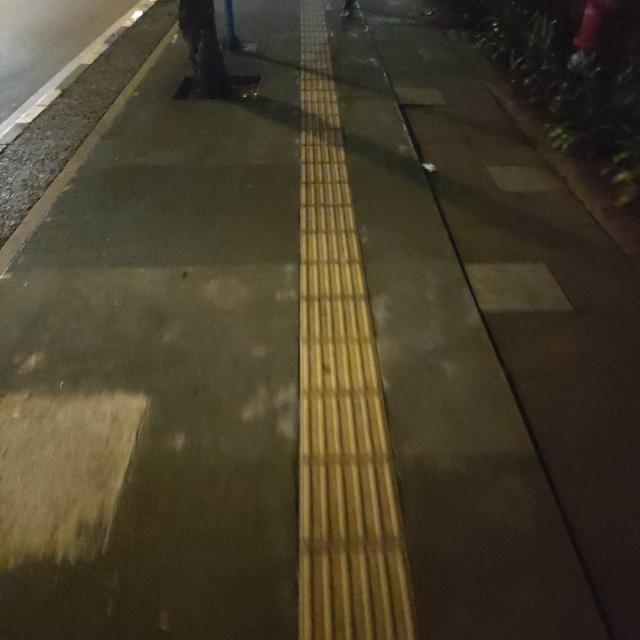lurus: (282, 83, 403, 640)
